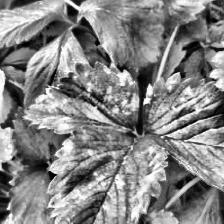Powdery Mildew Leaf: (44, 129, 170, 224), (141, 70, 224, 190), (21, 60, 141, 134)
